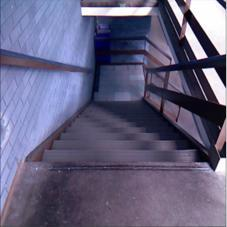Stair Down: (19, 99, 214, 171)
